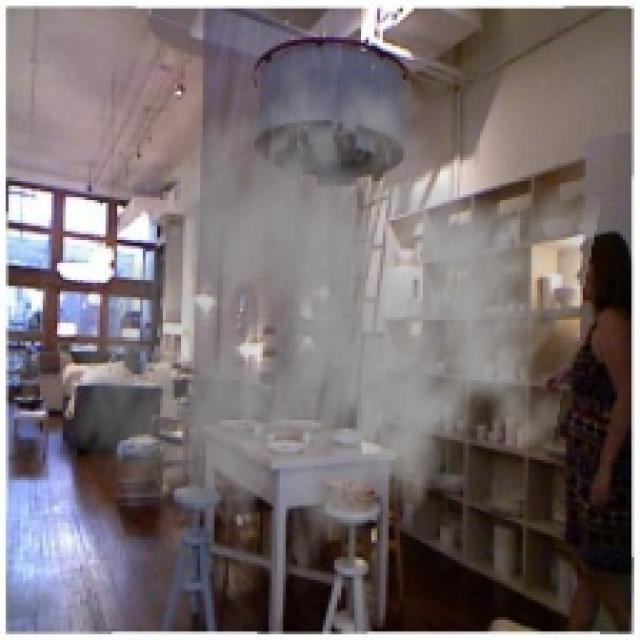smoke: (66, 57, 603, 594)
